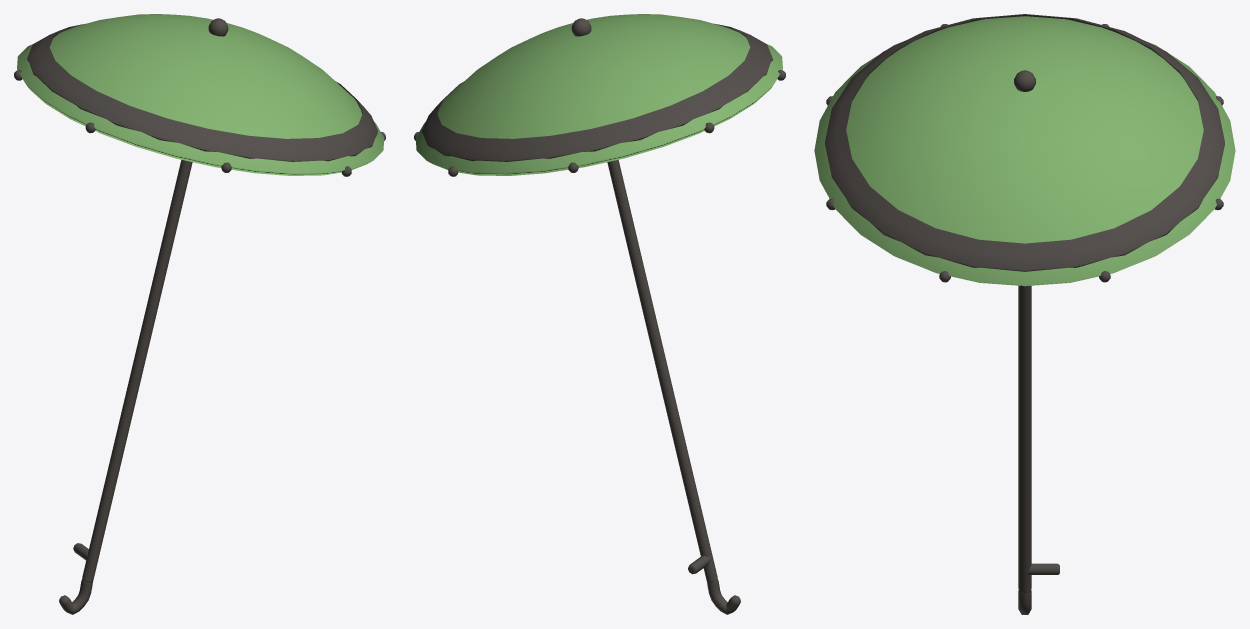
File: green_chic_umbrella.glb
3 renders of one model, left to right at view 1: azimuth 30°, elevation 25°; view 2: azimuth 150°, elevation 25°; view 3: azimuth 270°, elevation 25°, orthographic. The views are drawn at different scales.
Parts seen in each view (by area): view 1: green_chic_umbrella_ArmR; view 2: green_chic_umbrella_ArmR; view 3: green_chic_umbrella_ArmR.
Boxes of the visible parts, x1=… form: green_chic_umbrella_ArmR: x1=14, y1=14, x2=385, y2=614; green_chic_umbrella_ArmR: x1=414, y1=14, x2=785, y2=614; green_chic_umbrella_ArmR: x1=814, y1=14, x2=1235, y2=614.
Bounding box in the file's own units: 0.8703 × 1.47 × 0.9.
